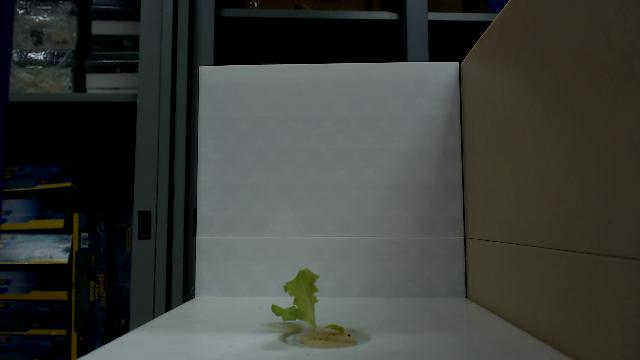Seedling Stage: (268, 266, 352, 340)
